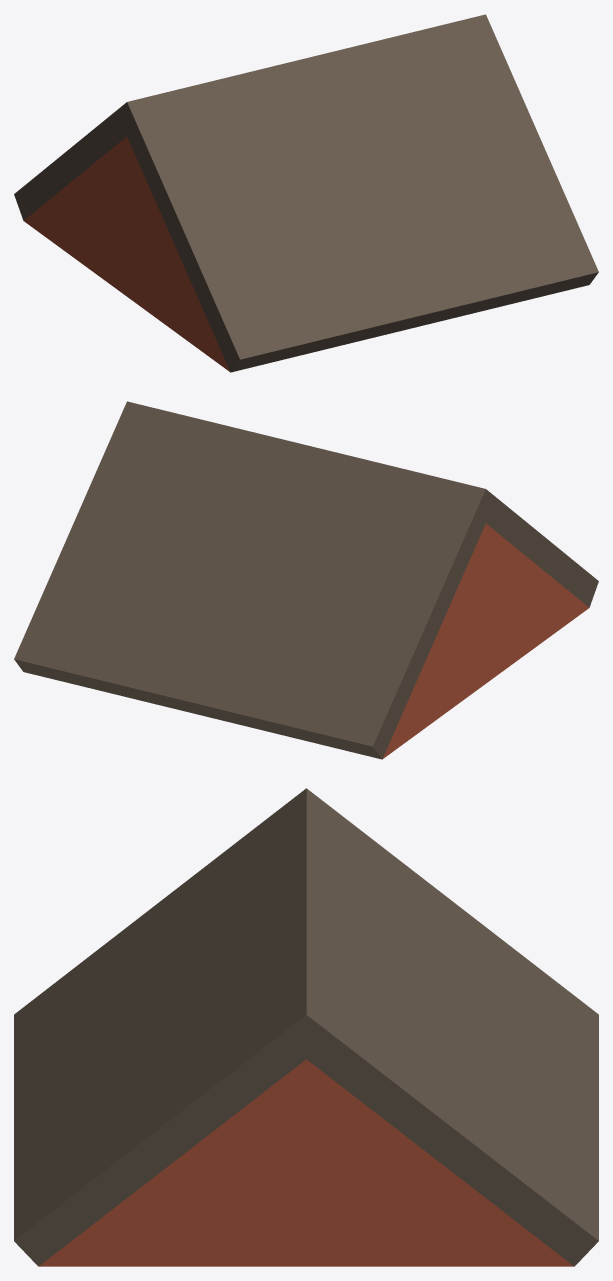
Rendered from modularBuildings_065.obj.
3 views of the same model, one above another, from view 1: azimuth 30°, elevation 25°; view 2: azimuth 150°, elevation 25°; view 3: azimuth 270°, elevation 25° (orthographic). The views are drawn at different scales.
Visible parts, largest first — view 1: Mesh1 Group1 Model; view 2: Mesh1 Group1 Model; view 3: Mesh1 Group1 Model.
Part boxes in pixels (x1=…): Mesh1 Group1 Model: x1=14, y1=14, x2=598, y2=372; Mesh1 Group1 Model: x1=14, y1=401, x2=598, y2=759; Mesh1 Group1 Model: x1=14, y1=788, x2=598, y2=1266.
Bounding box in the file's own units: 1 × 0.5188 × 1.09.
